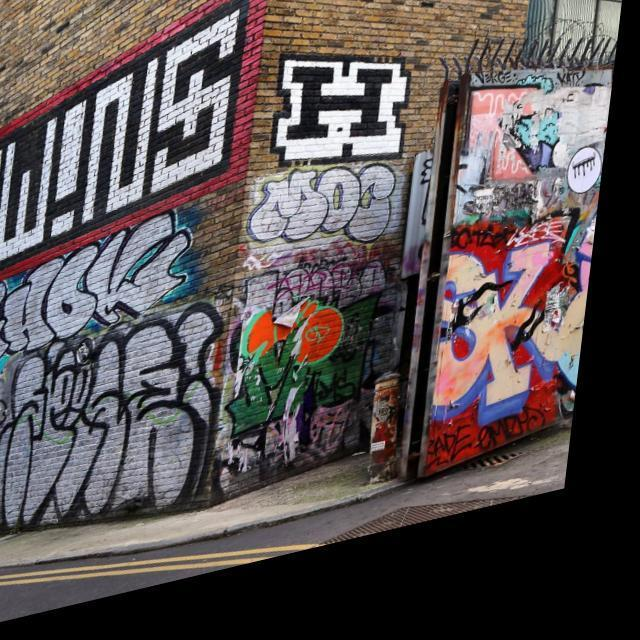-: (0, 0, 271, 305), (10, 321, 236, 548), (230, 266, 410, 498), (0, 217, 224, 380), (433, 240, 577, 460), (271, 43, 422, 203), (255, 162, 413, 284), (436, 448, 494, 495), (0, 380, 9, 521)
